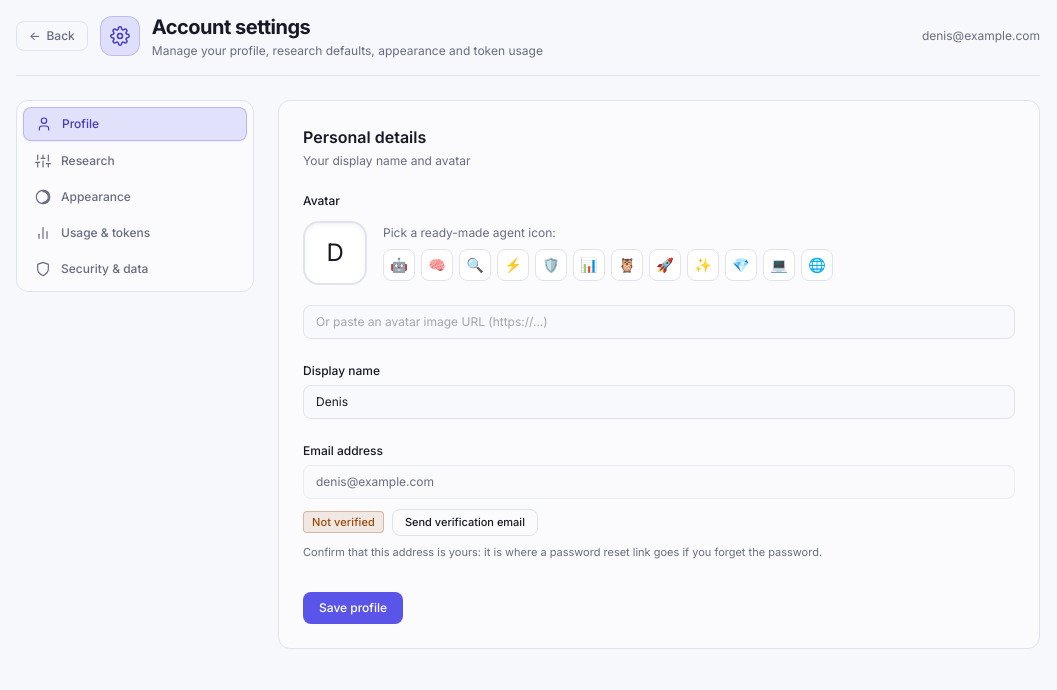
SettingsView › email verification › says to slow down when links were asked for too often
The width and height of the screenshot is (1057, 690).
Click the button "Send verification email" at (465, 522), box [392, 509, 538, 536]
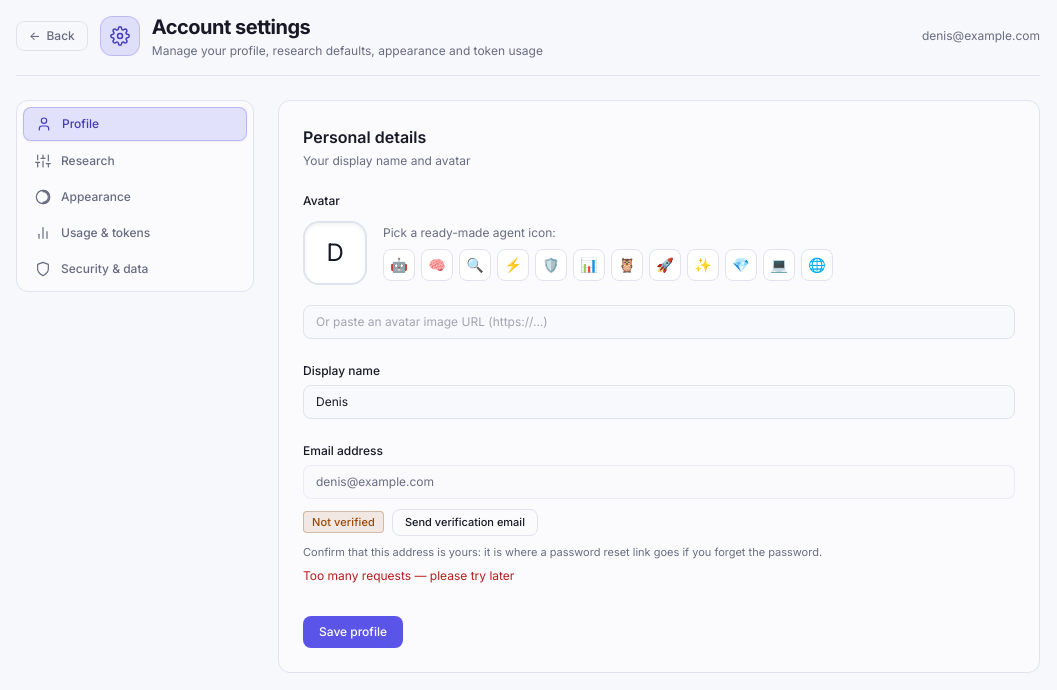
Now the text "Too many requests — please try later" is shown, box [303, 568, 514, 583]
